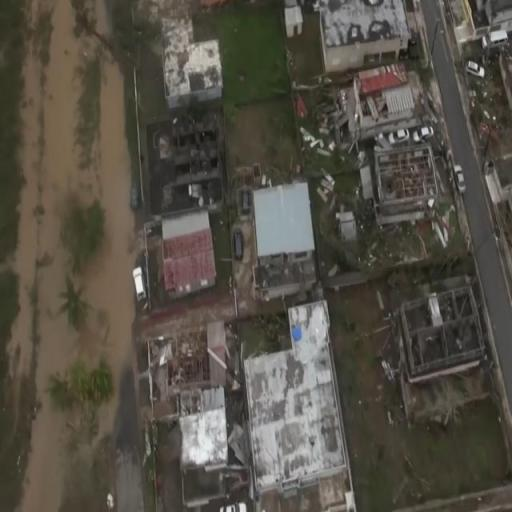flood: (9, 0, 134, 512)
house: (241, 296, 354, 512), (151, 322, 229, 491), (249, 176, 321, 306), (370, 124, 442, 228), (153, 204, 219, 298), (326, 0, 410, 70), (359, 65, 415, 133), (175, 40, 225, 102)
